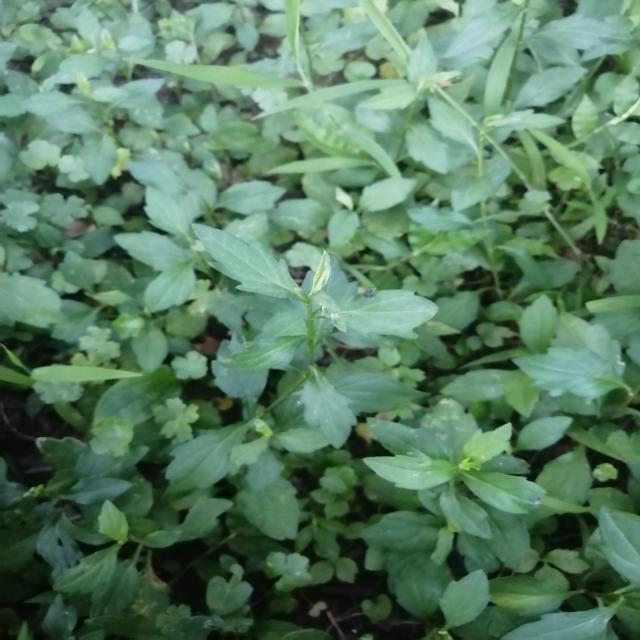Indian aster: (193, 218, 441, 422), (388, 413, 568, 568)
